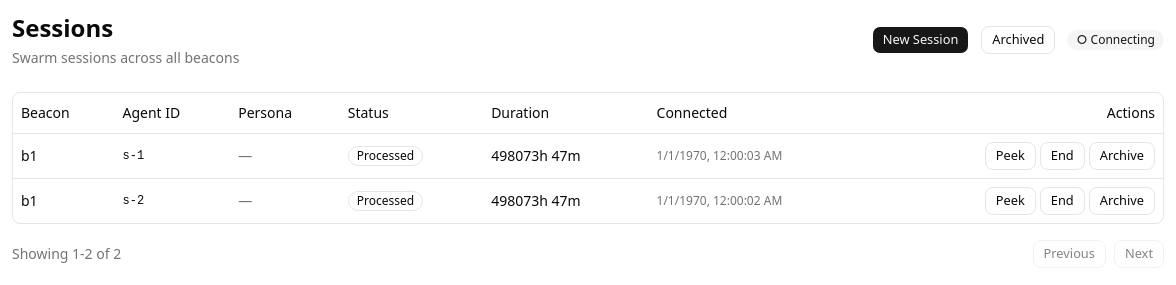
it: SessionsPage archive actions › a second archive leaves earlier undo rows intact
Check: the text "s-1" is shown, box [114,133,230,178]
Click the button "Archive" in the row of "s-1". click: (1122, 156)
box: [1089,142,1155,170]
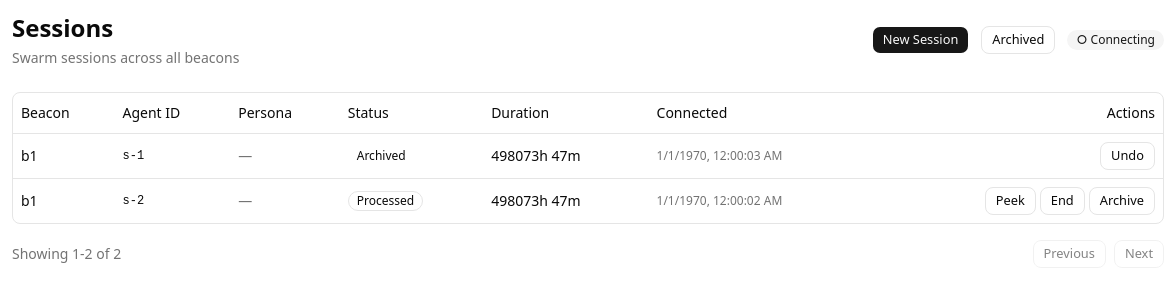
Check: the button "Undo" is shown, box [1100,142,1155,170]
Click the button "Archive". click: (1122, 200)
box: [1089,186,1155,214]
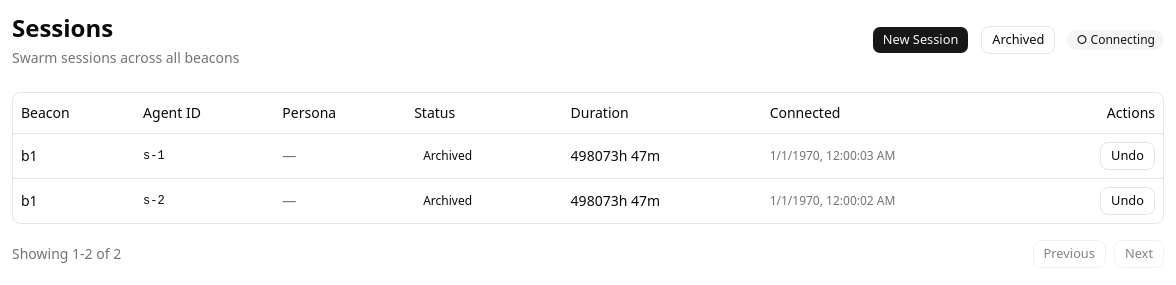
Check: the number of buttons "Undo" is 2, box [1100,142,1155,170]; [1100,186,1155,214]
Check: the button "Peek" is gone
